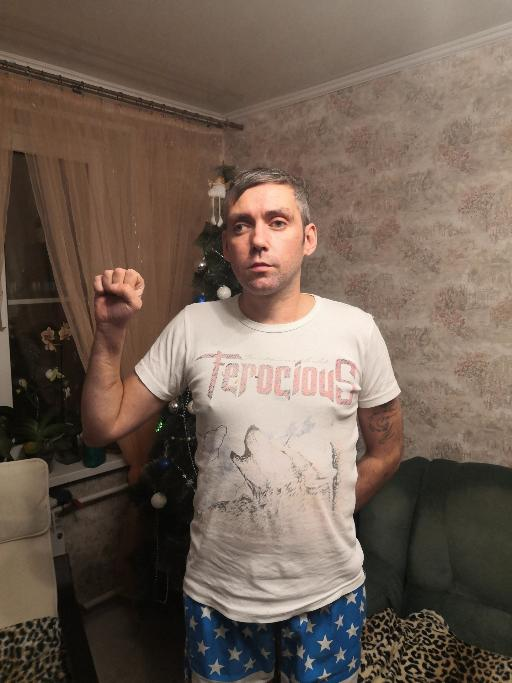fist: (89, 263, 146, 327)
